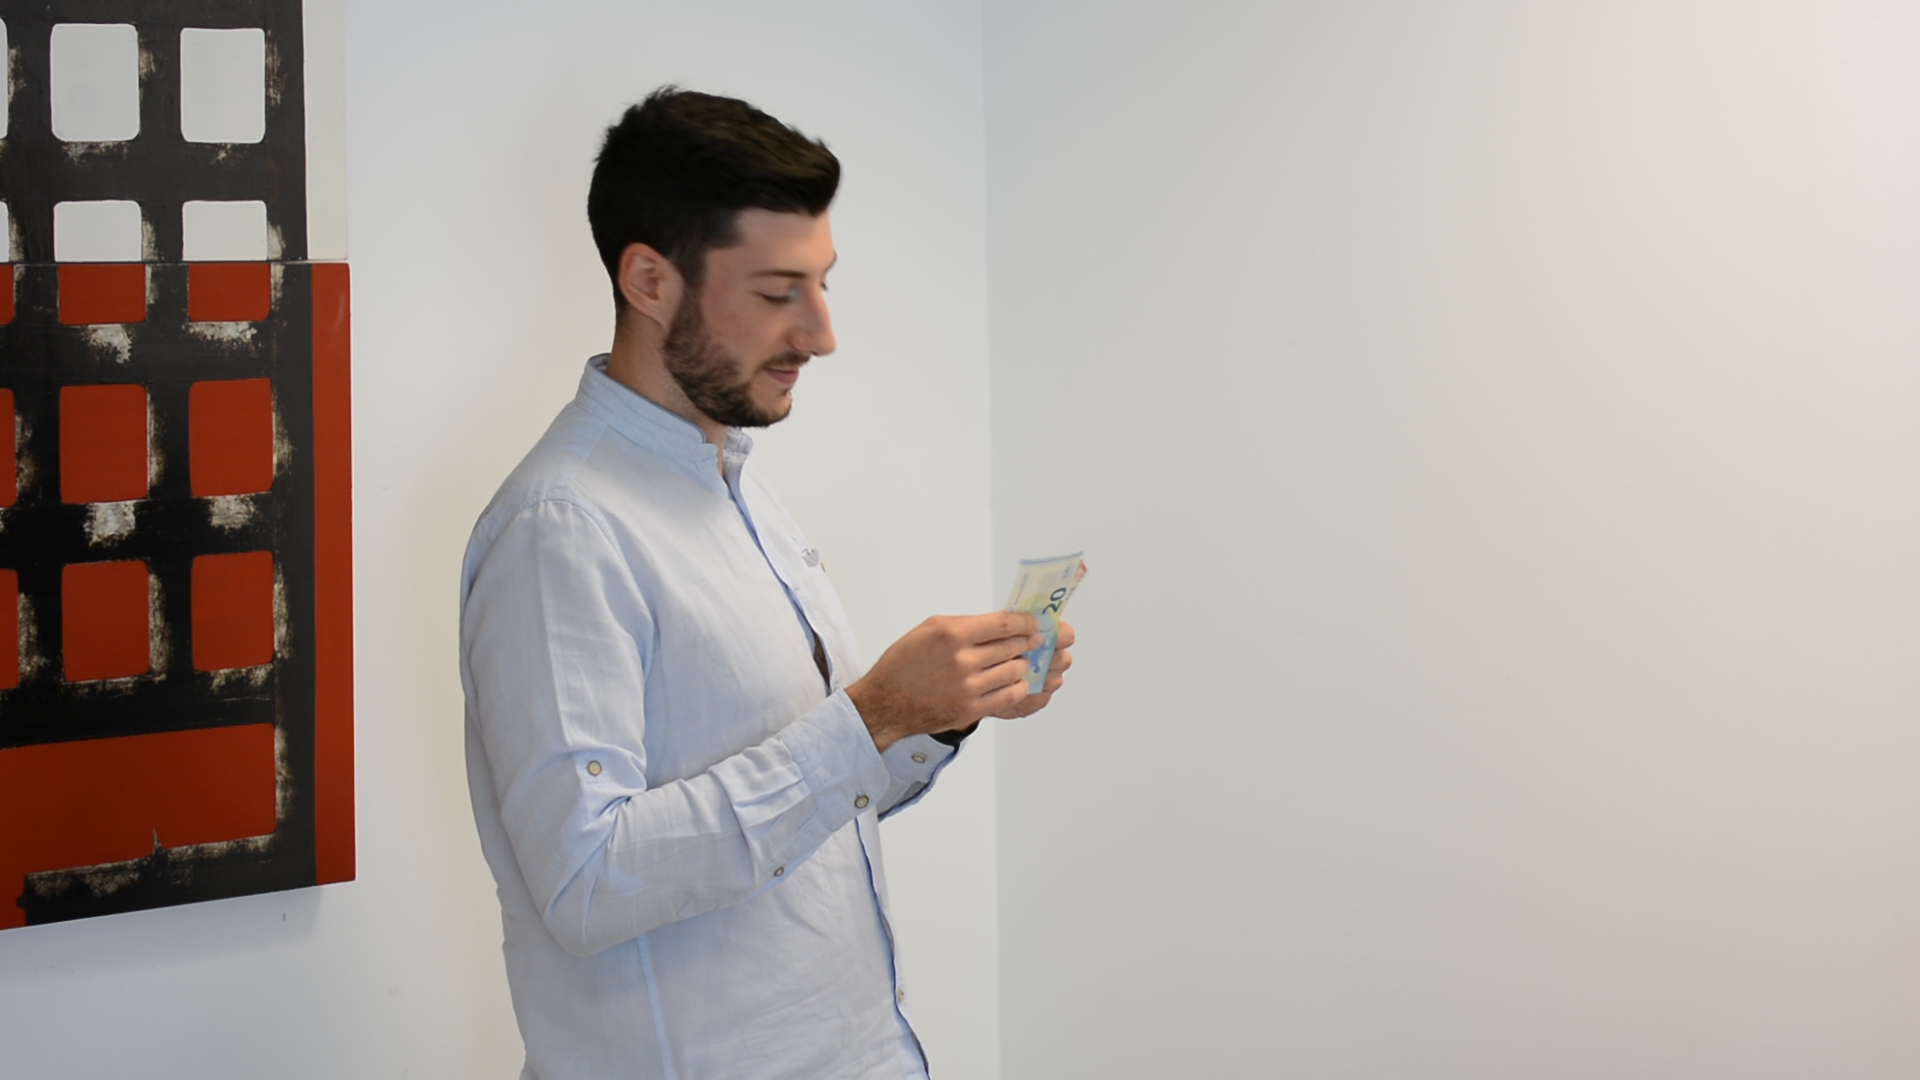billete: (1004, 546, 1091, 698)
